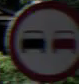No overtake: (8, 9, 77, 64)
